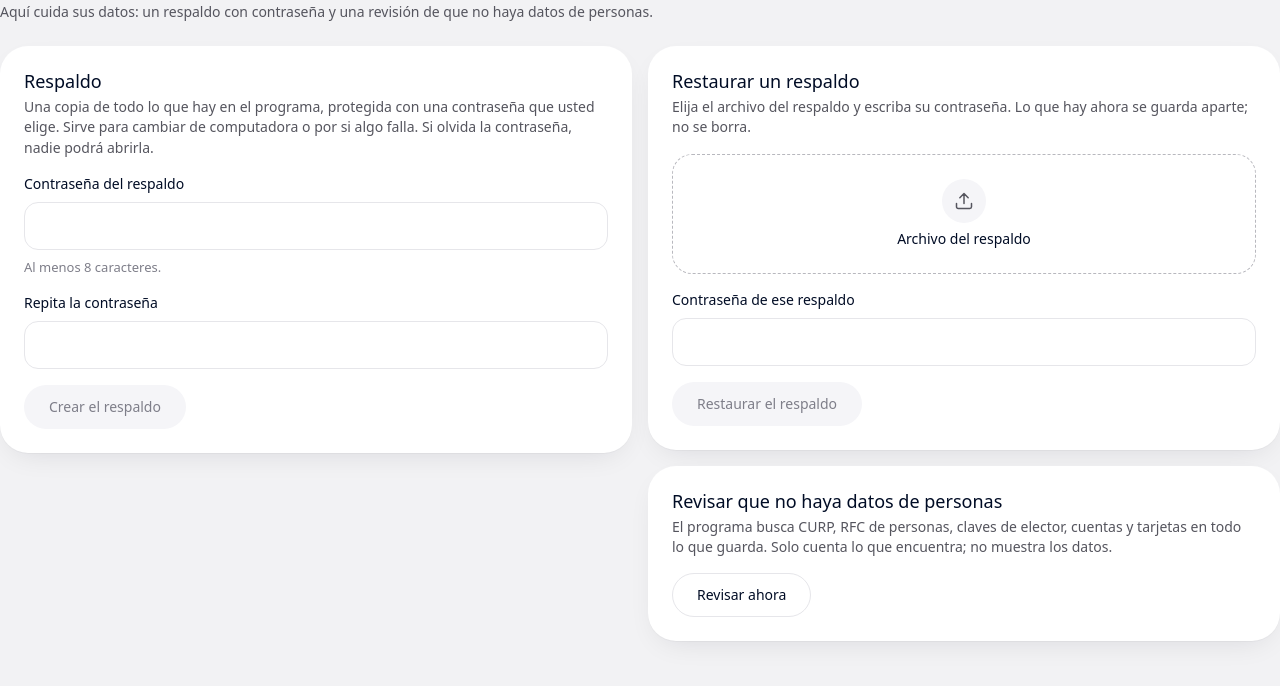
Test: SecurityPage › scans for data of people and shows only counts by place
Click the button "Revisar ahora". click: (742, 595)
box: [672,573,811,617]
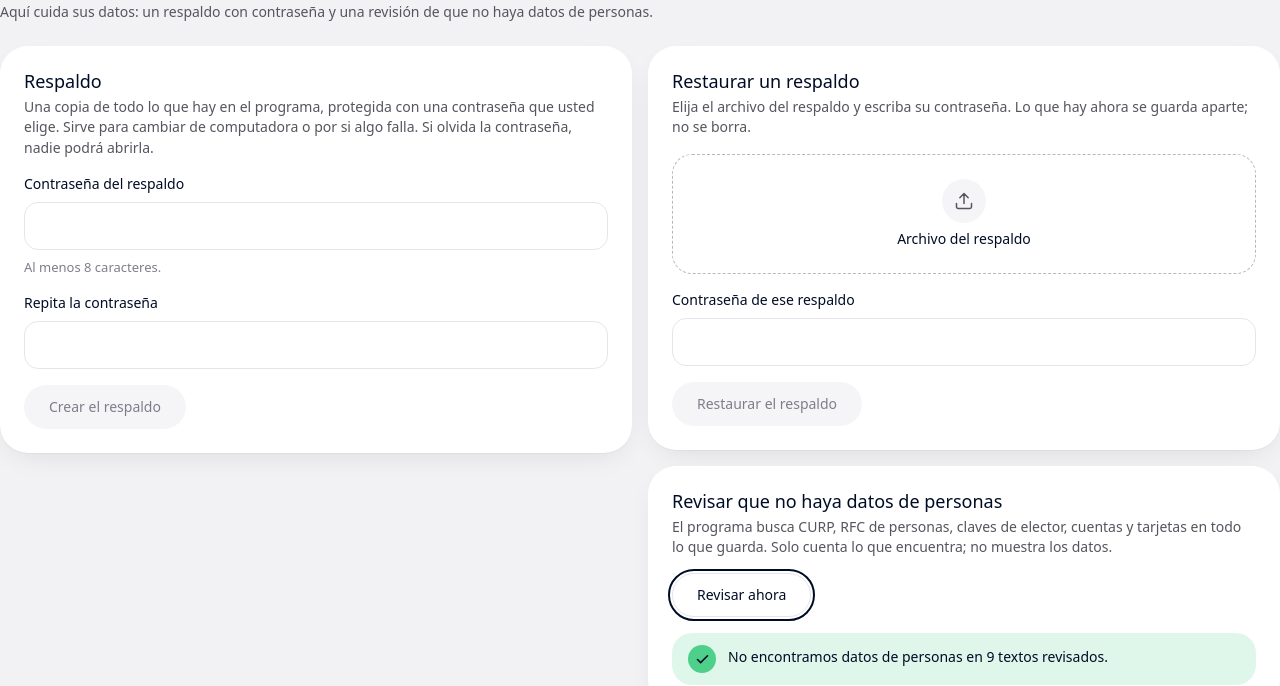
Expected: the text "No encontramos datos de personas en 9 textos revisados." is shown, [728,647,1108,666]
Click the button "Revisar ahora". click: (742, 595)
box: [672,573,811,617]
(page scrolled)
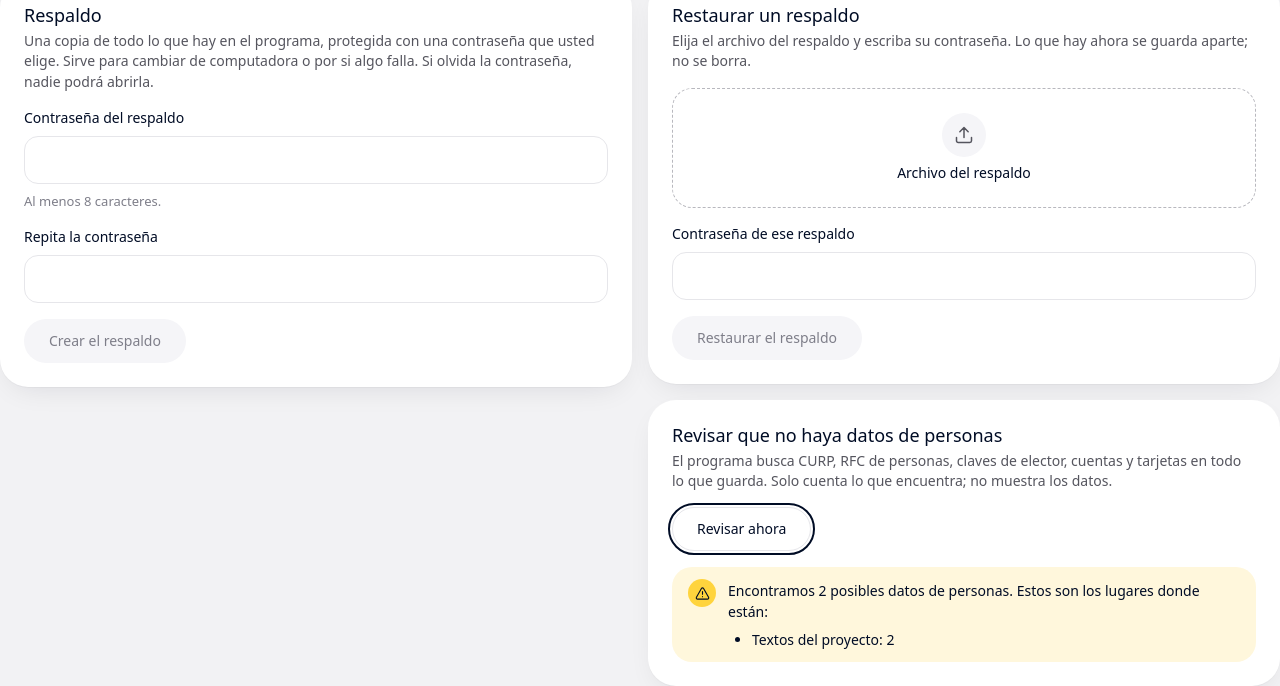
Expected: the text "Encontramos 2 posibles datos de personas. Estos son los lugares donde están:" is shown, [728,581,1240,622]
Expected: the list item "Textos del proyecto: 2" is shown, [752,630,894,649]
